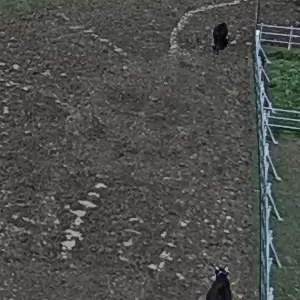cow: (190, 258, 243, 297), (203, 18, 240, 57)
